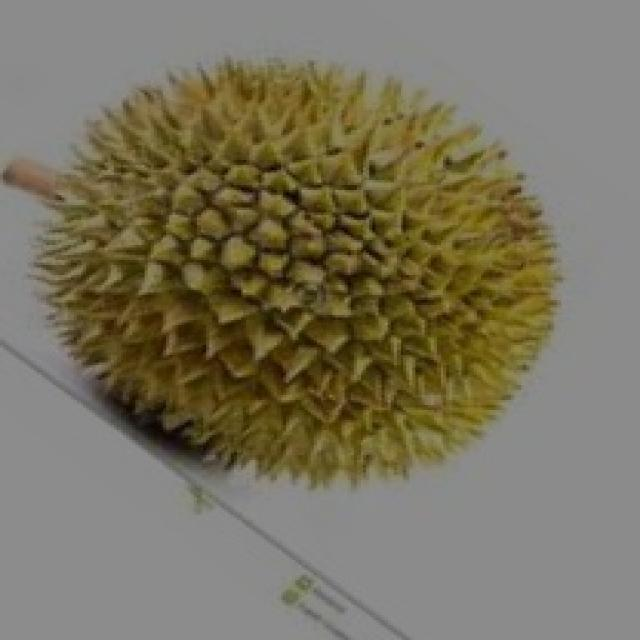fruit: (218, 165, 610, 547), (0, 167, 375, 554)
